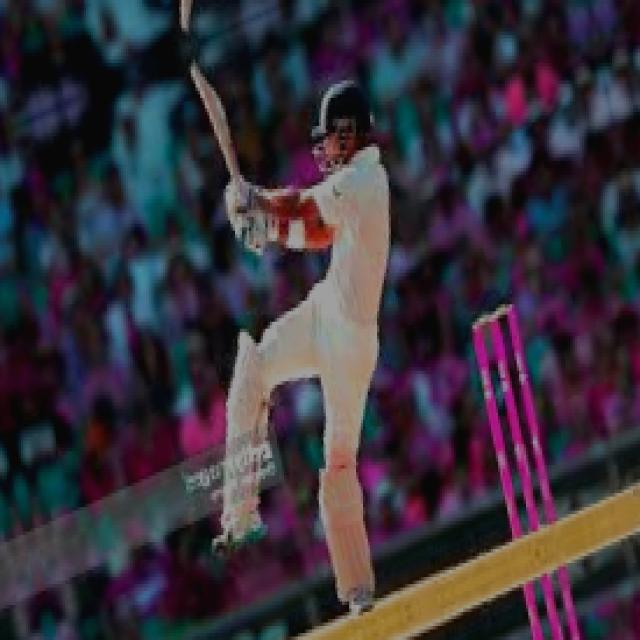toe: (187, 56, 212, 104)
